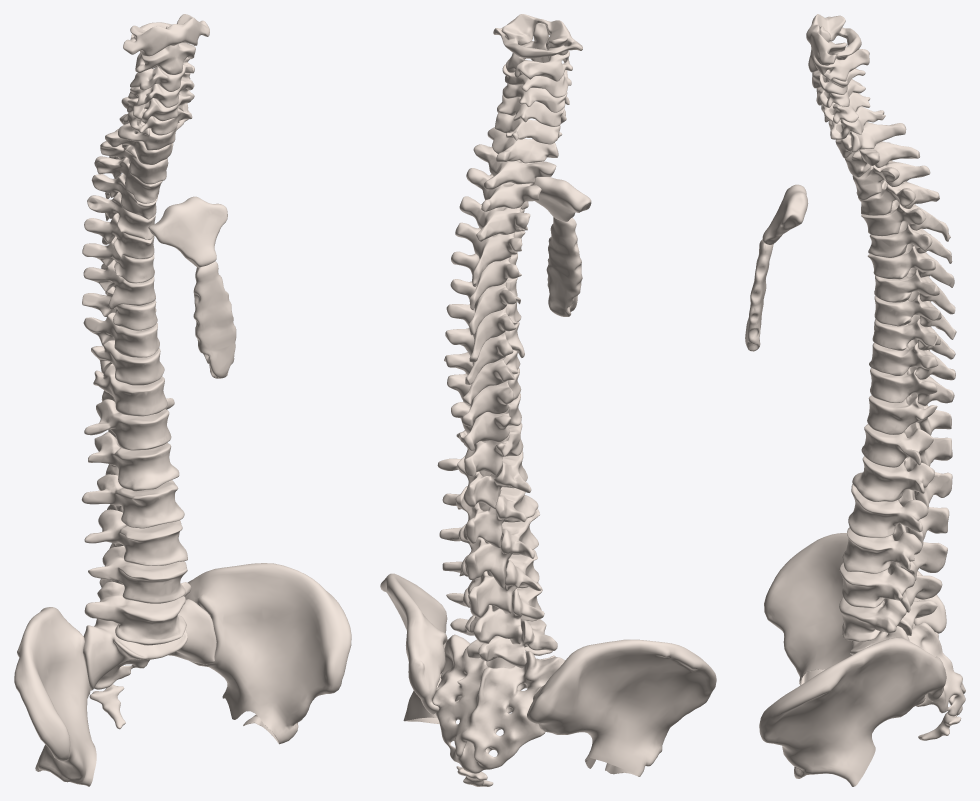
Rendered from female-skeletal.glb.
The picture shows the model from 3 angles, left to right: view 1: azimuth 30°, elevation 25°; view 2: azimuth 150°, elevation 25°; view 3: azimuth 270°, elevation 25°; orthographic projection. The views are drawn at different scales.
Parts seen in each view (by area): view 1: VH_F_ilium_compact_bone_L, VH_F_ilium_compact_bone_R, VH_F_sacrum, VH_F_lumbar_vertebra_6, VH_F_sternum, VH_F_manubrium, VH_F_lumbar_vertebra_4, VH_F_lumbar_vertebra_5, VH_F_lumbar_vertebra_3, VH_F_lumbar_vertebra_2, VH_F_lumbar_vertebra_1, VH_F_thoracic_vertebra_12 (+19 smaller); view 2: VH_F_ilium_compact_bone_R, VH_F_sacrum, VH_F_ilium_compact_bone_L, VH_F_lumbar_vertebra_3, VH_F_sternum, VH_F_lumbar_vertebra_2, VH_F_lumbar_vertebra_4, VH_F_lumbar_vertebra_5, VH_F_lumbar_vertebra_6, VH_F_lumbar_vertebra_1, VH_F_cervical_vertebra_1, VH_F_thoracic_vertebra_10 (+18 smaller); view 3: VH_F_ilium_compact_bone_L, VH_F_ilium_compact_bone_R, VH_F_lumbar_vertebra_4, VH_F_lumbar_vertebra_3, VH_F_lumbar_vertebra_2, VH_F_lumbar_vertebra_5, VH_F_lumbar_vertebra_1, VH_F_lumbar_vertebra_6, VH_F_sacrum, VH_F_thoracic_vertebra_12, VH_F_thoracic_vertebra_11, VH_F_thoracic_vertebra_10 (+19 smaller).
Part boxes in pixels (<box>): VH_F_ilium_compact_bone_L: <box>185,563,351,744</box>; VH_F_ilium_compact_bone_R: <box>14,607,96,786</box>; VH_F_sacrum: <box>83,599,216,690</box>; VH_F_lumbar_vertebra_6: <box>84,581,191,645</box>; VH_F_sternum: <box>193,261,236,378</box>; VH_F_manubrium: <box>148,196,227,267</box>; VH_F_lumbar_vertebra_4: <box>84,509,187,565</box>; VH_F_lumbar_vertebra_5: <box>88,546,187,603</box>; VH_F_lumbar_vertebra_3: <box>81,474,184,528</box>; VH_F_lumbar_vertebra_2: <box>88,432,179,491</box>; VH_F_lumbar_vertebra_1: <box>84,398,174,450</box>; VH_F_thoracic_vertebra_12: <box>93,363,167,416</box>; VH_F_ilium_compact_bone_R: <box>527,639,716,776</box>; VH_F_sacrum: <box>432,634,565,773</box>; VH_F_ilium_compact_bone_L: <box>380,573,458,724</box>; VH_F_lumbar_vertebra_3: <box>439,509,539,588</box>; VH_F_sternum: <box>546,217,582,316</box>; VH_F_lumbar_vertebra_2: <box>442,486,538,548</box>; VH_F_lumbar_vertebra_4: <box>442,549,541,617</box>; VH_F_lumbar_vertebra_5: <box>446,582,544,644</box>; VH_F_lumbar_vertebra_6: <box>450,615,557,668</box>; VH_F_lumbar_vertebra_1: <box>437,450,531,509</box>; VH_F_cervical_vertebra_1: <box>493,14,582,58</box>; VH_F_thoracic_vertebra_10: <box>447,368,521,426</box>; VH_F_ilium_compact_bone_L: <box>759,637,946,786</box>; VH_F_ilium_compact_bone_R: <box>764,533,946,685</box>; VH_F_lumbar_vertebra_4: <box>842,523,947,580</box>; VH_F_lumbar_vertebra_3: <box>848,484,949,546</box>; VH_F_lumbar_vertebra_2: <box>852,456,952,508</box>; VH_F_lumbar_vertebra_5: <box>839,561,942,612</box>; VH_F_lumbar_vertebra_1: <box>861,422,952,467</box>; VH_F_lumbar_vertebra_6: <box>839,597,937,641</box>; VH_F_sacrum: <box>850,602,965,716</box>; VH_F_thoracic_vertebra_12: <box>867,392,951,435</box>; VH_F_thoracic_vertebra_11: <box>870,367,954,406</box>; VH_F_thoracic_vertebra_10: <box>869,339,955,380</box>.
Bounding box in the file's own units: 0.3168 × 0.6997 × 0.1953.
